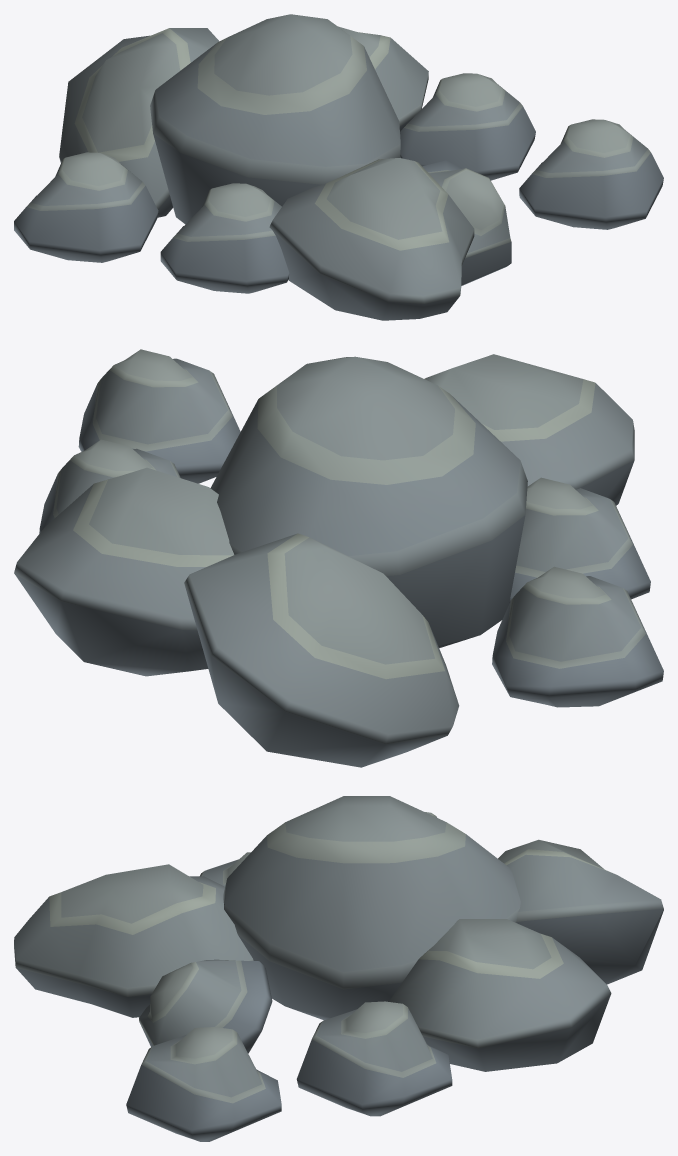
Rendered from iron_ore_pile.fbx.
The picture shows the model from 3 angles, top to bottom: view 1: azimuth 30°, elevation 25°; view 2: azimuth 150°, elevation 25°; view 3: azimuth 270°, elevation 25°; orthographic projection. The views are drawn at different scales.
Parts seen in each view (by area): view 1: iron_ore_pile; view 2: iron_ore_pile; view 3: iron_ore_pile.
Part boxes in pixels (x1,y1,x2,y2): iron_ore_pile: (14, 14, 663, 320); iron_ore_pile: (14, 349, 663, 767); iron_ore_pile: (14, 796, 663, 1141).
Size of the model in its own units: 142 by 54.59 by 137.
Materials: 1 (1 with a texture image).
